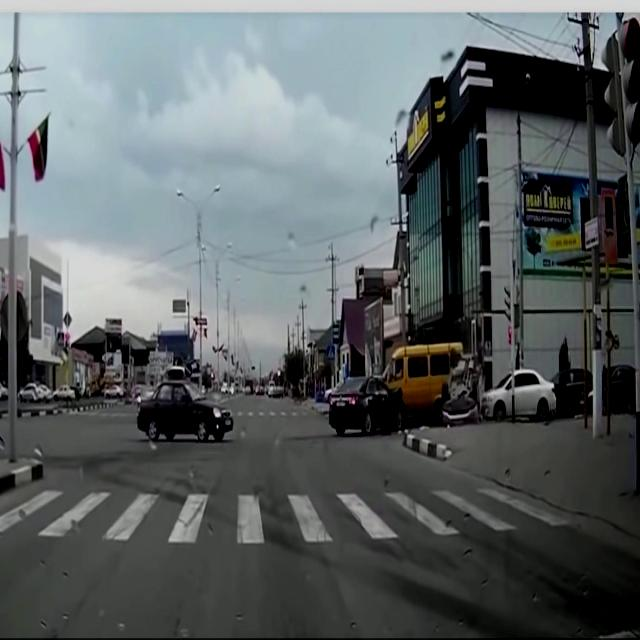accident: (327, 340, 481, 436)
non-accident: (481, 364, 637, 421)
